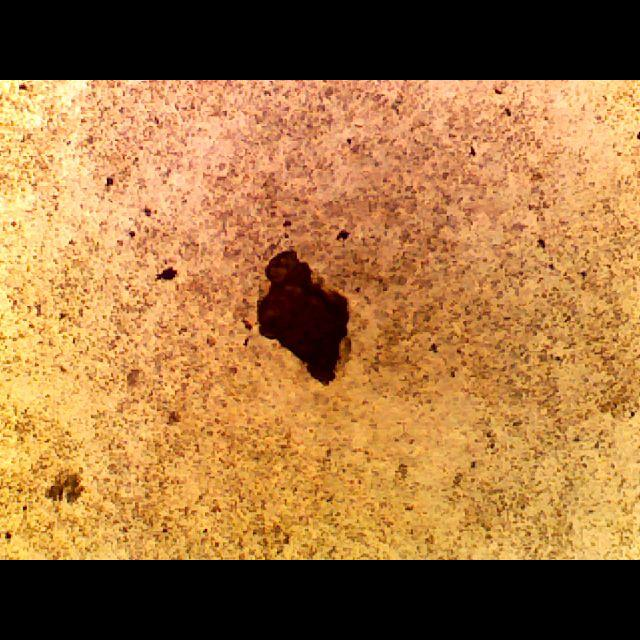Fragment: (246, 242, 356, 391)
